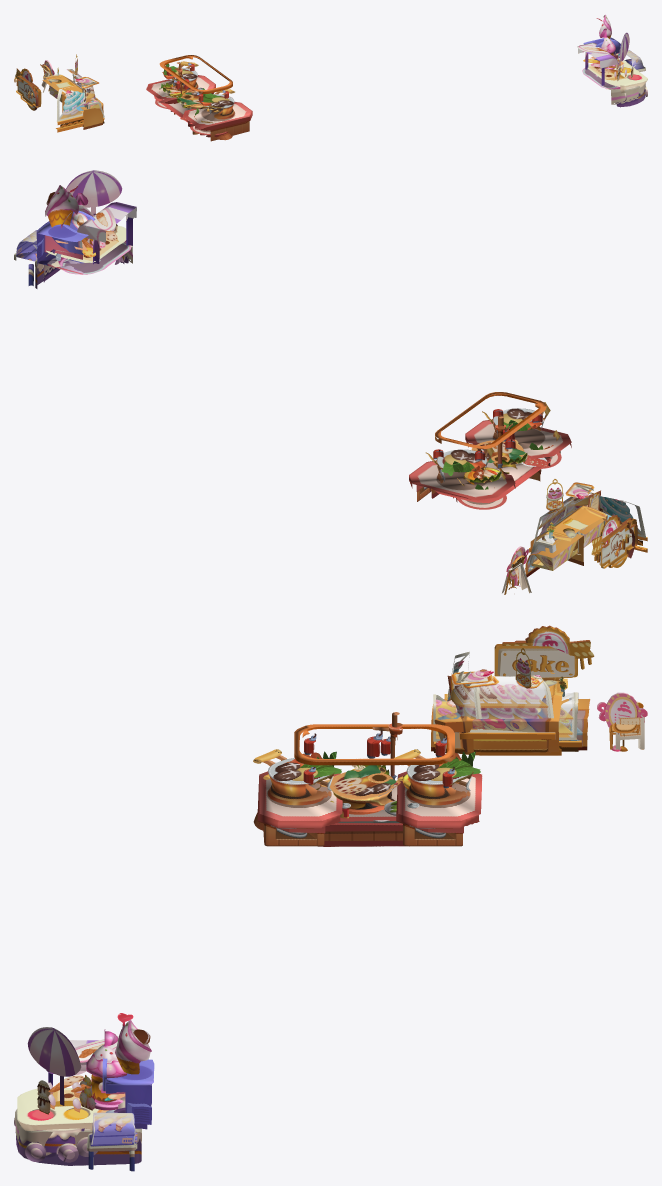
File: tanwei1.fbx
The picture shows the model from 3 angles, top to bottom: view 1: azimuth 30°, elevation 25°; view 2: azimuth 150°, elevation 25°; view 3: azimuth 270°, elevation 25°; orthographic projection. The views are drawn at different scales.
Parts seen in each view (by area): view 1: stall_20132, stall_20114, stall_20052, stall_20134, stall_20053, stall_20054, stall_20113, stall_20111, stall_20133, stall_20112, stall_20131, stall_20051; view 2: stall_20132, stall_20054, stall_20114, stall_20134, stall_20113, stall_20052, stall_20133, stall_20111, stall_20051, stall_20112, stall_20053, stall_20131; view 3: stall_20132, stall_20114, stall_20054, stall_20134, stall_20112, stall_20133, stall_20111, stall_20051, stall_20052, stall_20113, stall_20053.
Boxes of the visible parts, left/top/right/bottom form: stall_20132: left=146, top=61, right=252, bottom=141; stall_20114: left=14, top=54, right=99, bottom=132; stall_20052: left=577, top=42, right=647, bottom=100; stall_20134: left=154, top=55, right=232, bottom=135; stall_20053: left=582, top=28, right=639, bottom=107; stall_20054: left=583, top=14, right=645, bottom=102; stall_20113: left=16, top=64, right=104, bottom=123; stall_20111: left=16, top=67, right=102, bottom=129; stall_20133: left=161, top=62, right=208, bottom=134; stall_20112: left=26, top=64, right=103, bottom=126; stall_20131: left=155, top=83, right=232, bottom=140; stall_20051: left=605, top=32, right=647, bottom=96; stall_20132: left=409, top=402, right=571, bottom=501; stall_20054: left=14, top=185, right=124, bottom=288; stall_20114: left=506, top=479, right=647, bottom=588; stall_20134: left=429, top=392, right=550, bottom=503; stall_20113: left=508, top=492, right=637, bottom=589; stall_20052: left=46, top=202, right=136, bottom=264; stall_20133: left=453, top=415, right=550, bottom=498; stall_20111: left=502, top=490, right=636, bottom=593; stall_20051: left=50, top=170, right=125, bottom=264; stall_20112: left=504, top=505, right=635, bottom=594; stall_20053: left=43, top=193, right=132, bottom=282; stall_20131: left=456, top=430, right=561, bottom=509; stall_20132: left=253, top=749, right=482, bottom=846; stall_20114: left=444, top=625, right=647, bottom=755; stall_20054: left=18, top=1013, right=154, bottom=1171; stall_20134: left=294, top=724, right=454, bottom=846; stall_20112: left=434, top=678, right=643, bottom=752; stall_20133: left=320, top=712, right=402, bottom=821; stall_20111: left=431, top=644, right=644, bottom=751; stall_20051: left=25, top=1027, right=125, bottom=1162; stall_20052: left=14, top=1036, right=118, bottom=1156; stall_20113: left=433, top=640, right=643, bottom=753; stall_20053: left=15, top=1029, right=126, bottom=1152.
Size of the model in its own units: 25.15 by 3.37 by 14.49.
